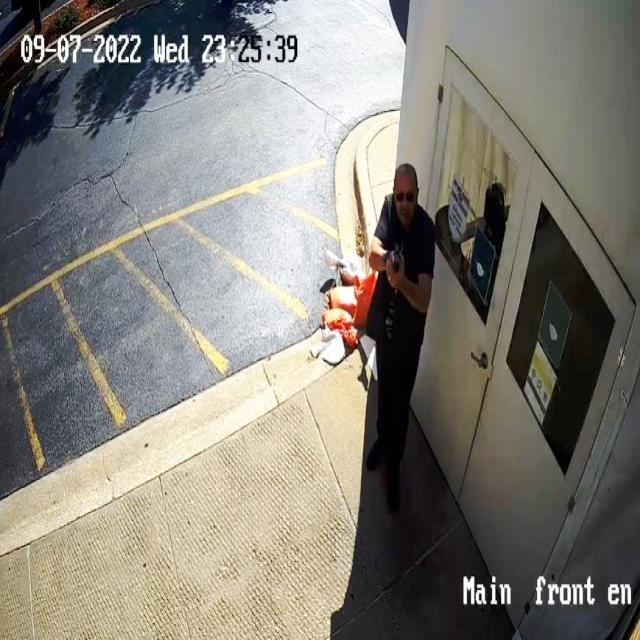Gun: (382, 232, 412, 279)
